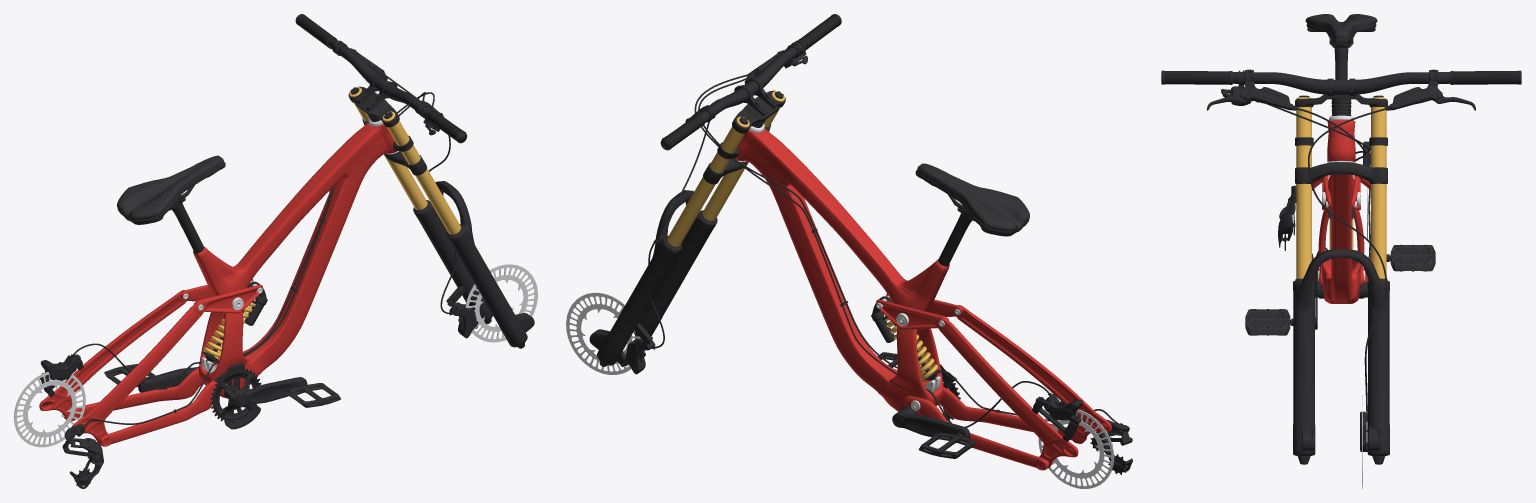
Rendered from fuzz.glb.
The picture shows the model from 3 angles, left to right: view 1: azimuth 30°, elevation 25°; view 2: azimuth 150°, elevation 25°; view 3: azimuth 270°, elevation 25°; orthographic projection. The views are drawn at different scales.
Parts seen in each view (by area): view 1: frame, seatstay, steer, fork_lower, crank, swing, wheel_rear, wheel_front, rocker; view 2: frame, steer, seatstay, fork_lower, swing, crank, wheel_front, wheel_rear, rocker; view 3: steer, fork_lower, frame, crank, seatstay, rocker.
Boxes of the visible parts, left/top/right/bottom form: frame: left=73, top=92, right=434, bottom=434; seatstay: left=39, top=290, right=204, bottom=488; steer: left=295, top=14, right=467, bottom=314; fork_lower: left=413, top=181, right=534, bottom=348; crank: left=104, top=364, right=340, bottom=423; swing: left=63, top=367, right=233, bottom=446; wheel_rear: left=14, top=372, right=85, bottom=447; wheel_front: left=465, top=264, right=537, bottom=342; rocker: left=180, top=279, right=262, bottom=313; frame: left=653, top=74, right=1118, bottom=427; steer: left=648, top=14, right=841, bottom=348; seatstay: left=937, top=305, right=1132, bottom=474; fork_lower: left=589, top=190, right=717, bottom=374; swing: left=903, top=387, right=1086, bottom=470; crank: left=877, top=352, right=975, bottom=458; wheel_front: left=566, top=292, right=640, bottom=374; wheel_rear: left=1038, top=409, right=1114, bottom=488; rocker: left=876, top=293, right=962, bottom=329; steer: left=1161, top=69, right=1521, bottom=413; fork_lower: left=1293, top=249, right=1389, bottom=464; frame: left=1266, top=14, right=1388, bottom=329; crank: left=1245, top=244, right=1435, bottom=335; seatstay: left=1278, top=141, right=1370, bottom=250; rocker: left=1322, top=175, right=1360, bottom=210.
Bounding box in the file's own units: 1.46 × 0.848 × 0.7801.
